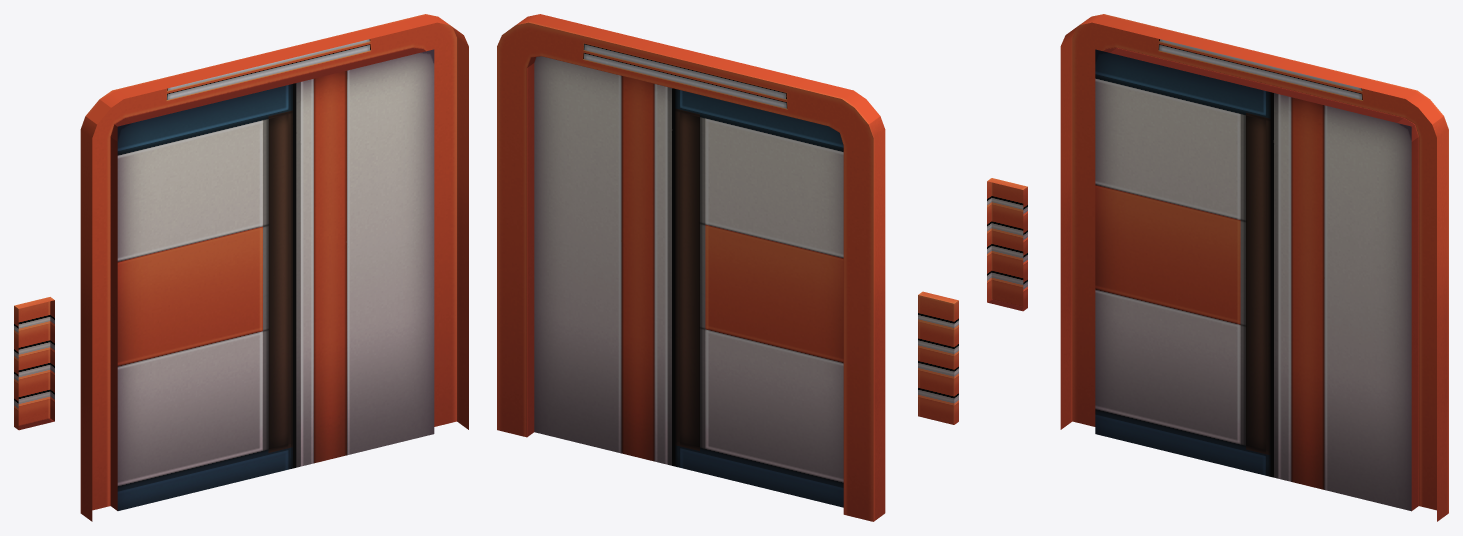
The model's file is Door1.FBX.
The picture shows the model from 3 angles, left to right: view 1: azimuth 30°, elevation 25°; view 2: azimuth 150°, elevation 25°; view 3: azimuth 330°, elevation 25°; orthographic projection.
Parts seen in each view (by area): view 1: Door1; view 2: Door1; view 3: Door1.
Part boxes in pixels (left/top/right/bottom): Door1: left=14, top=14, right=468, bottom=521; Door1: left=497, top=14, right=958, bottom=521; Door1: left=987, top=14, right=1448, bottom=521.
Size of the model in its own units: 731 by 33.13 by 644.
Materials: 1 (1 with a texture image).
